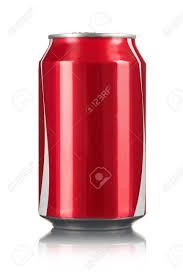Aluminum can: (32, 25, 156, 233)
